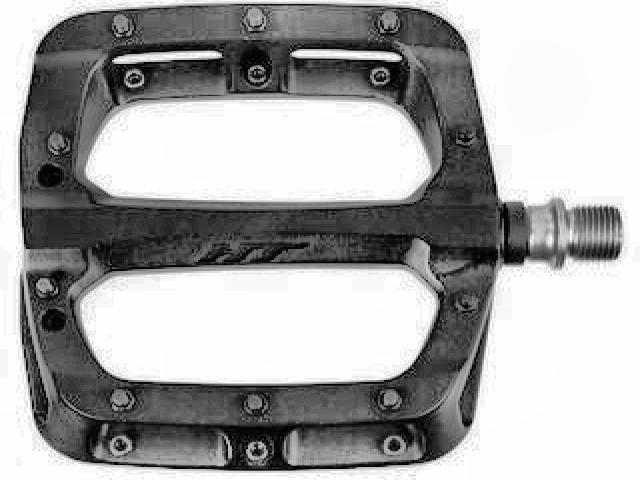pedal: (18, 5, 623, 473)
